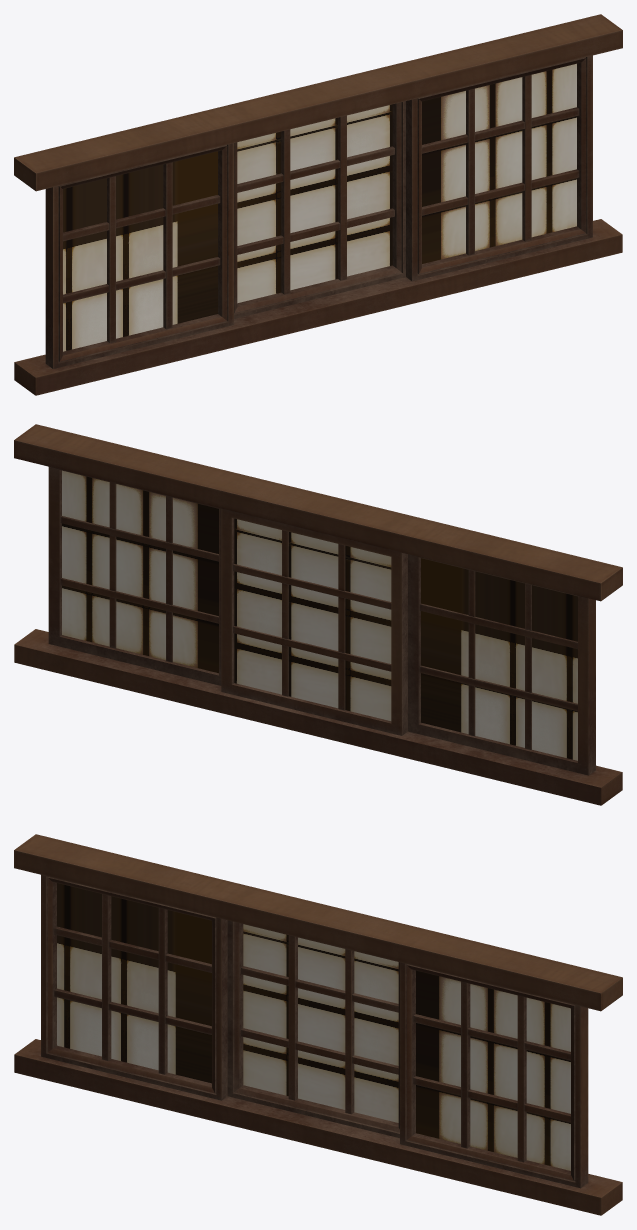
Rendered from Shoji_Window 1.fbx.
The picture shows the model from 3 angles, top to bottom: view 1: azimuth 30°, elevation 25°; view 2: azimuth 150°, elevation 25°; view 3: azimuth 330°, elevation 25°; orthographic projection.
Visible parts, largest first — view 1: Window; view 2: Window; view 3: Window.
Boxes of the visible parts, x1,y1,x2,y2 form: Window: (14,14,622,395); Window: (14,424,622,805); Window: (14,834,622,1215).
Size of the model in its own units: 244 by 88.51 by 15.81.
